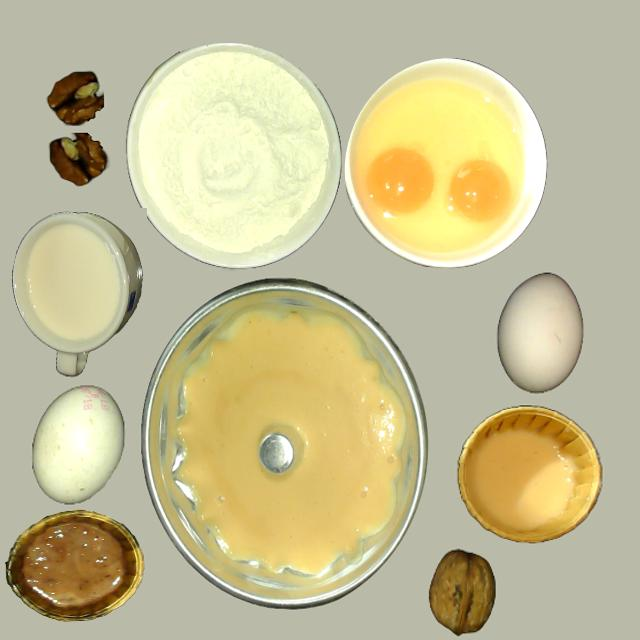Milk: (455, 15, 554, 138), (223, 508, 331, 616)
Walnut: (28, 210, 96, 296)
